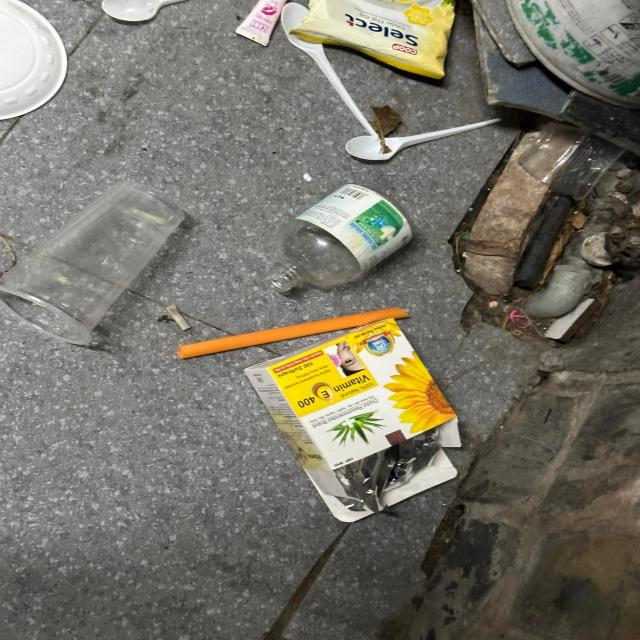bottle: (266, 184, 413, 292)
cardboard box: (244, 319, 464, 523)
drinking straw: (179, 308, 408, 358)
plastic glass: (0, 181, 186, 344)
plastic holder: (0, 0, 72, 122)
plastic utensil: (282, 4, 380, 140), (345, 118, 501, 160)
snack package: (290, 0, 457, 78)
